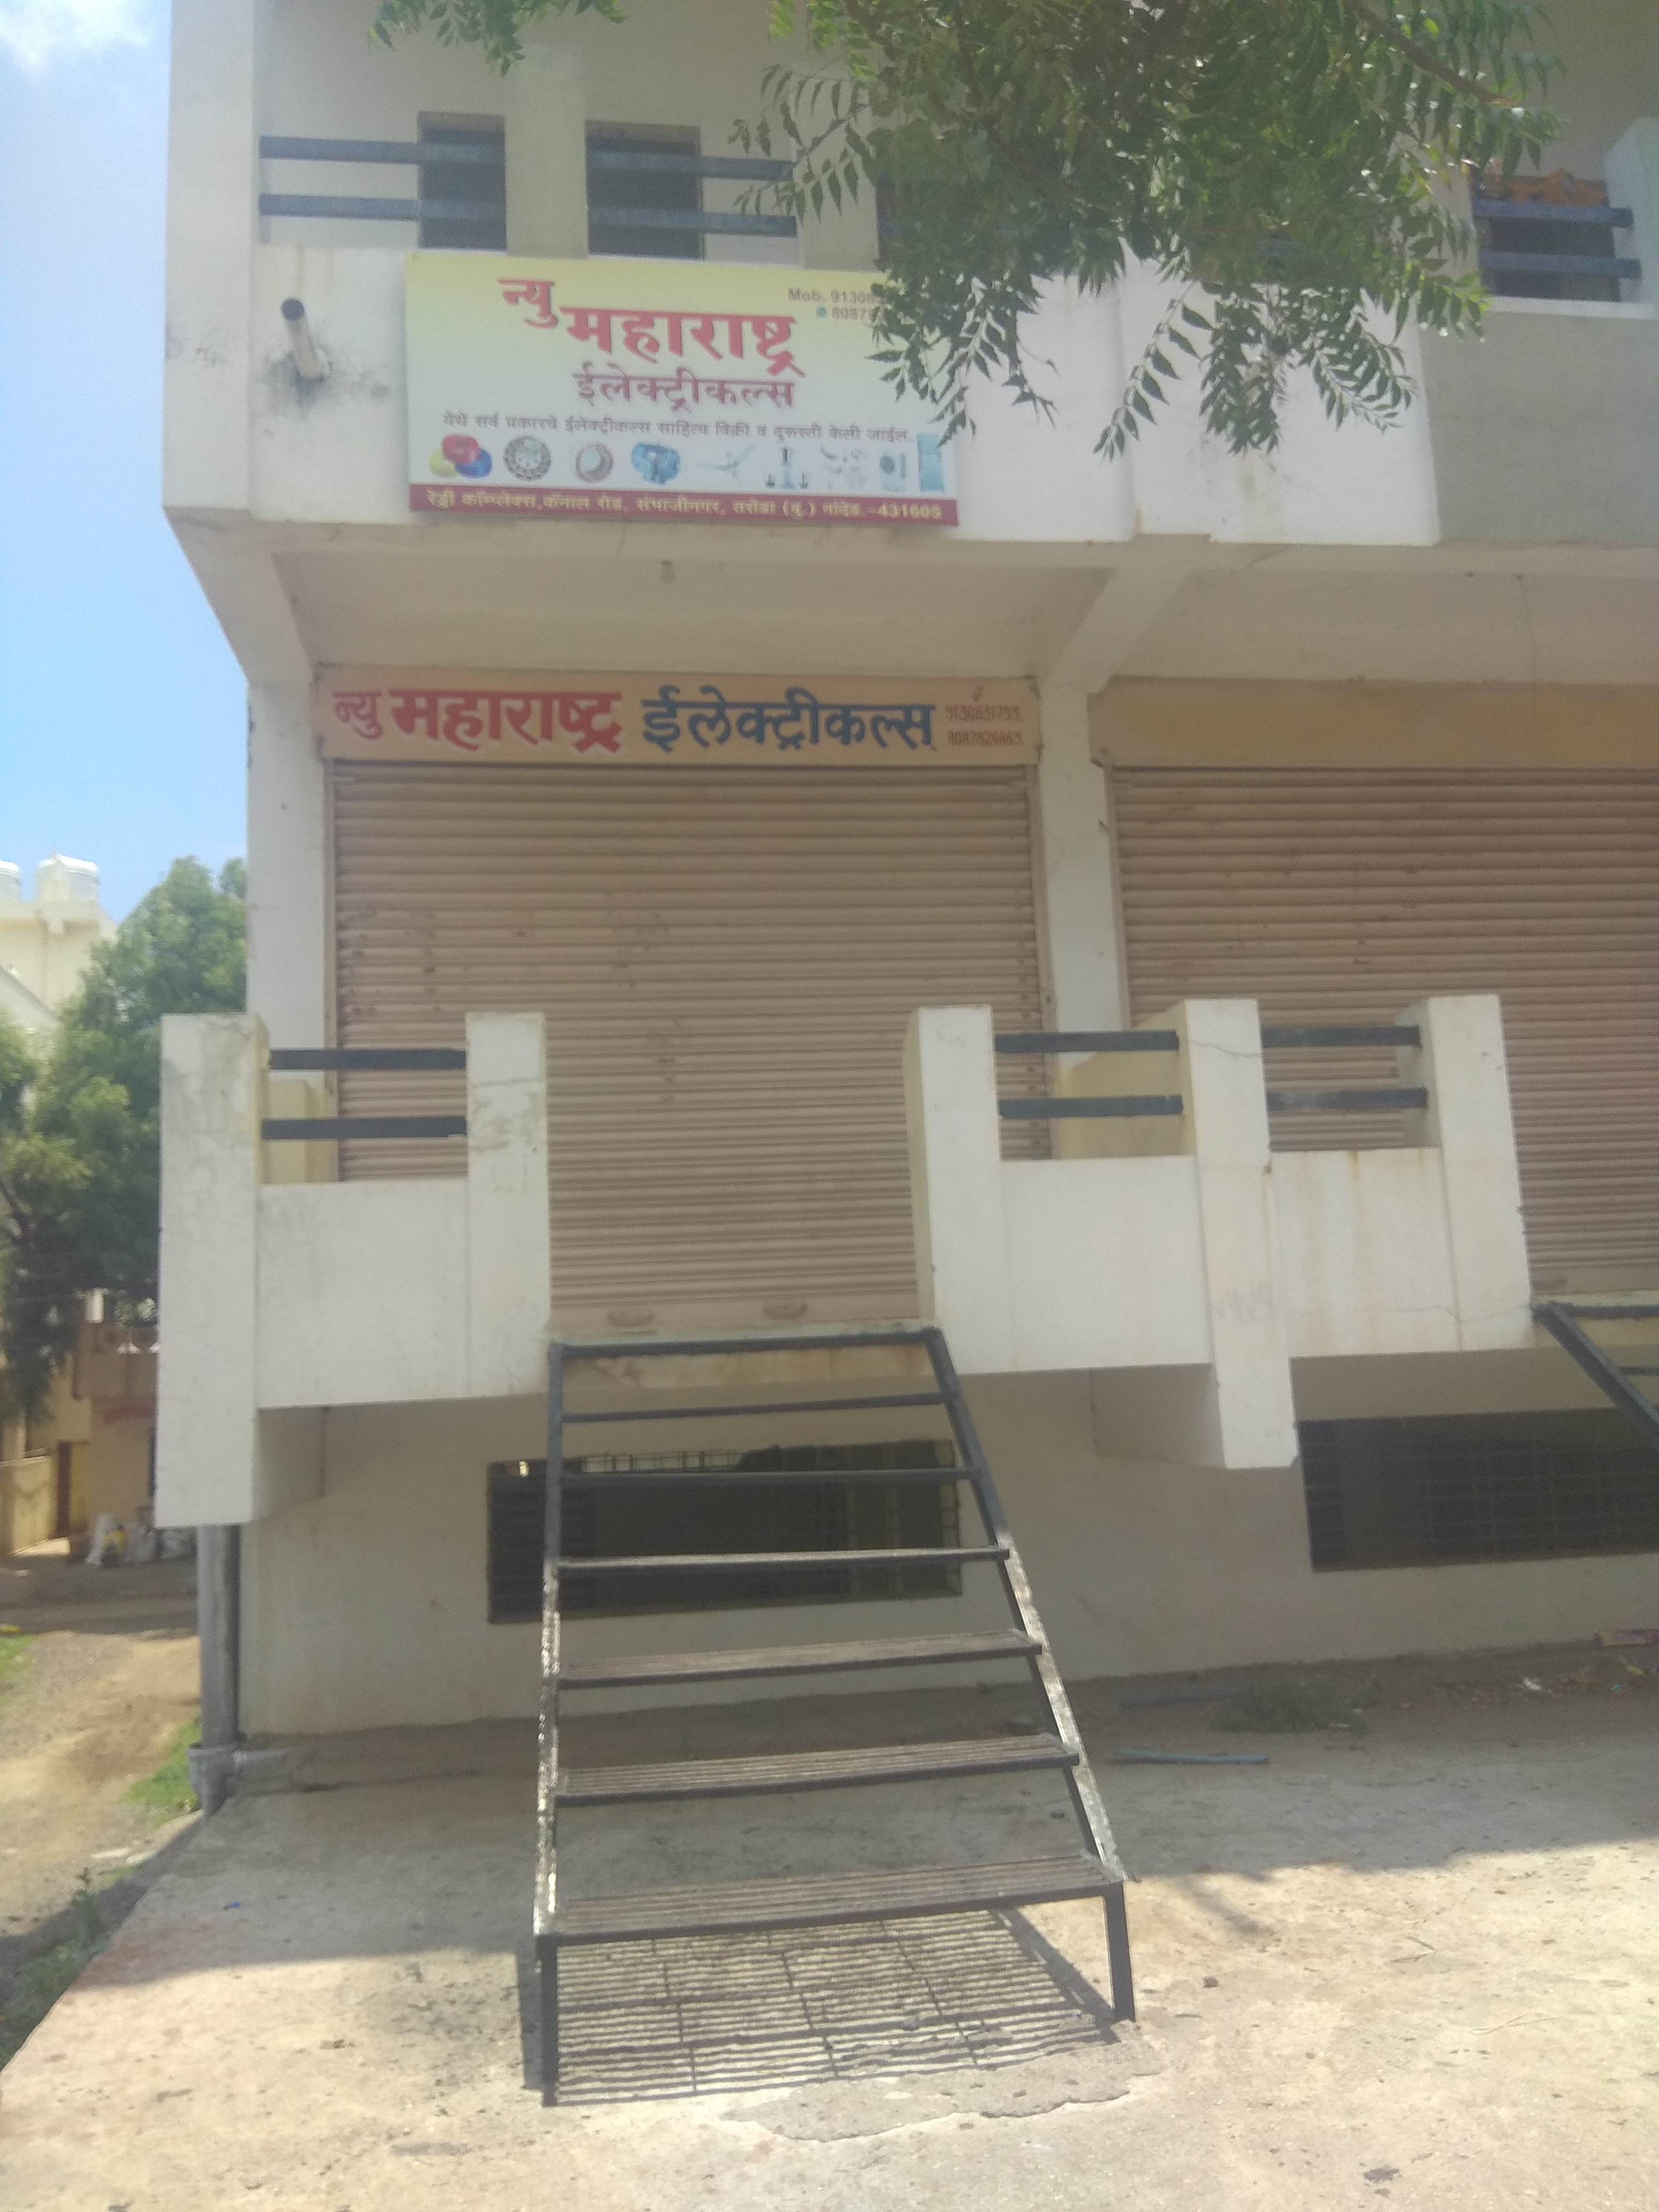text: (392, 249, 969, 536), (317, 660, 1046, 772)
